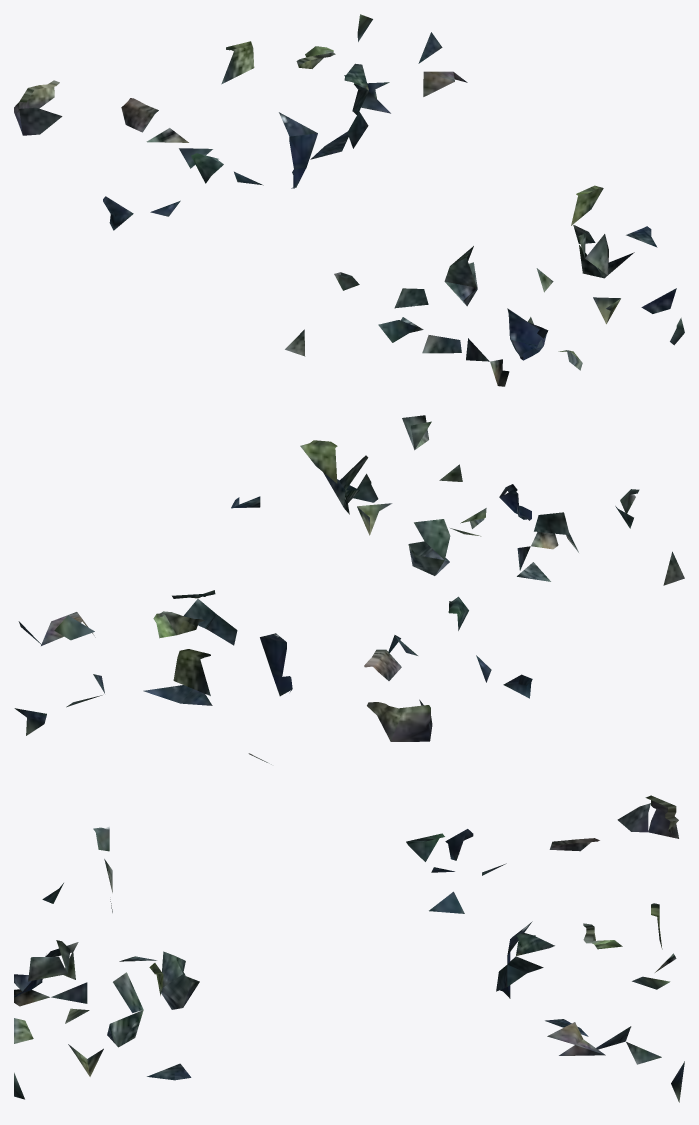
The picture shows the model from 3 angles, top to bottom: view 1: azimuth 30°, elevation 25°; view 2: azimuth 150°, elevation 25°; view 3: azimuth 270°, elevation 25°; orthographic projection. The views are drawn at different scales.
Parts seen in each view (by area): view 1: 30436272704370604523_1; view 2: 30436272704370604523_1; view 3: 30436272704370604523_1.
Part boxes in pixels (<box>): 30436272704370604523_1: <box>14,14,684,386</box>; 30436272704370604523_1: <box>14,415,684,764</box>; 30436272704370604523_1: <box>14,795,684,1102</box>.
Bounding box in the file's own units: 27.31 × 7.25 × 36.72.
1 material, 1 textured.
